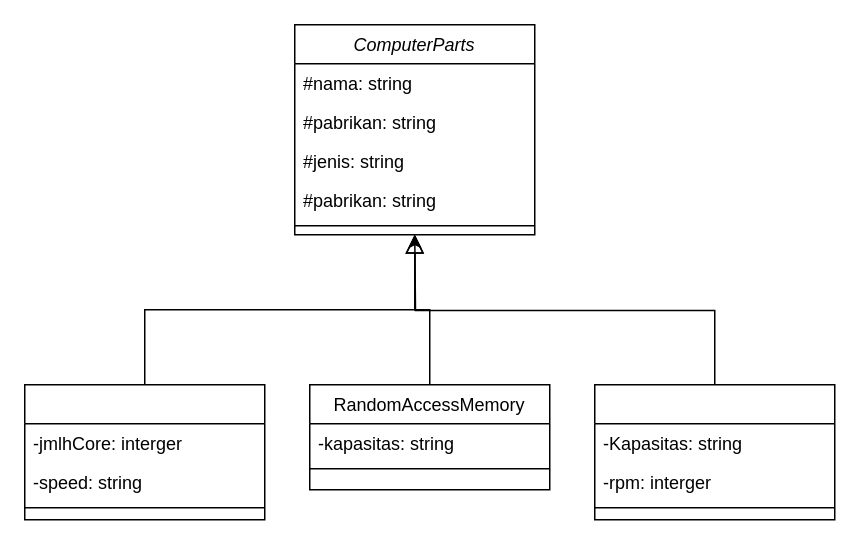
This 860x545 diagram has some shape labels left out. The shapes that lost their labels are listed below. From the top down, each one's box as (x1, y1, x2, y2) in pixels, then its label:
(23, 383, 265, 520): Processor
(593, 383, 835, 520): HardDiskSATA
